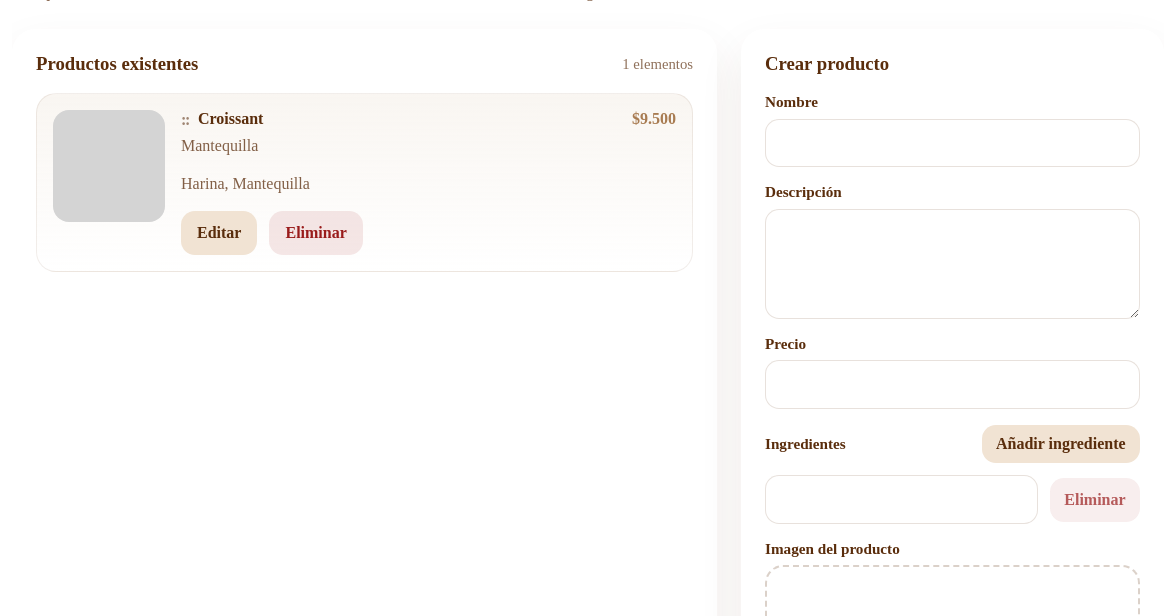
ProductsAdmin › shows the backend validation detail when an update is rejected
Click the button "Editar". click: {"x": 219, "y": 233}
box: x1=181 y1=211 x2=258 y2=255
(page scrolled)
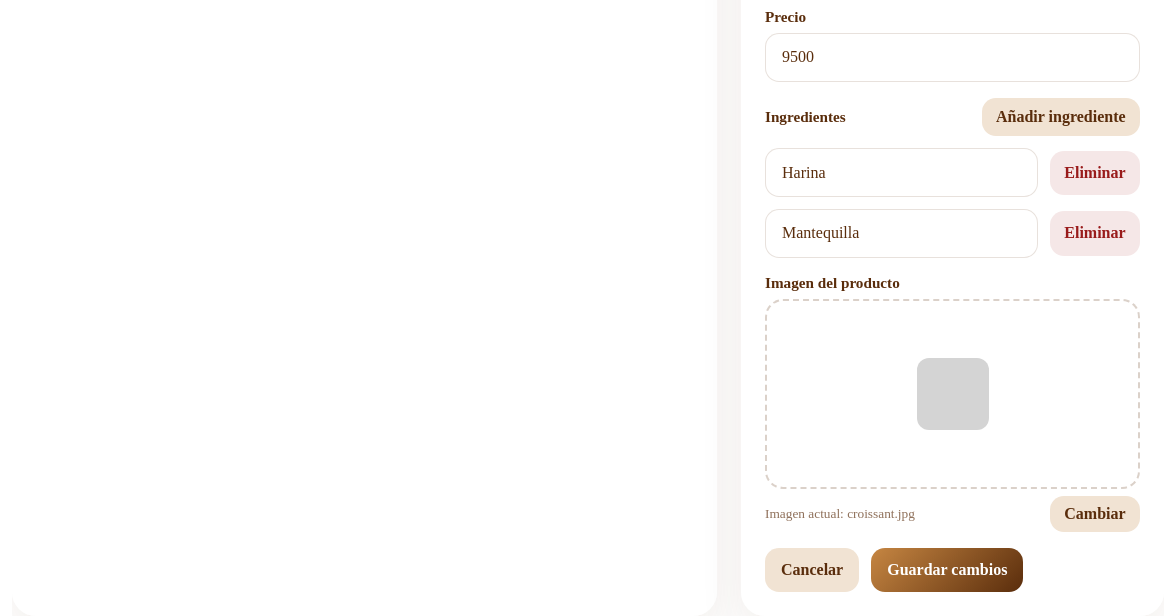
Click the button "Guardar cambios". click: {"x": 947, "y": 570}
box: x1=871 y1=548 x2=1023 y2=592
(page scrolled)
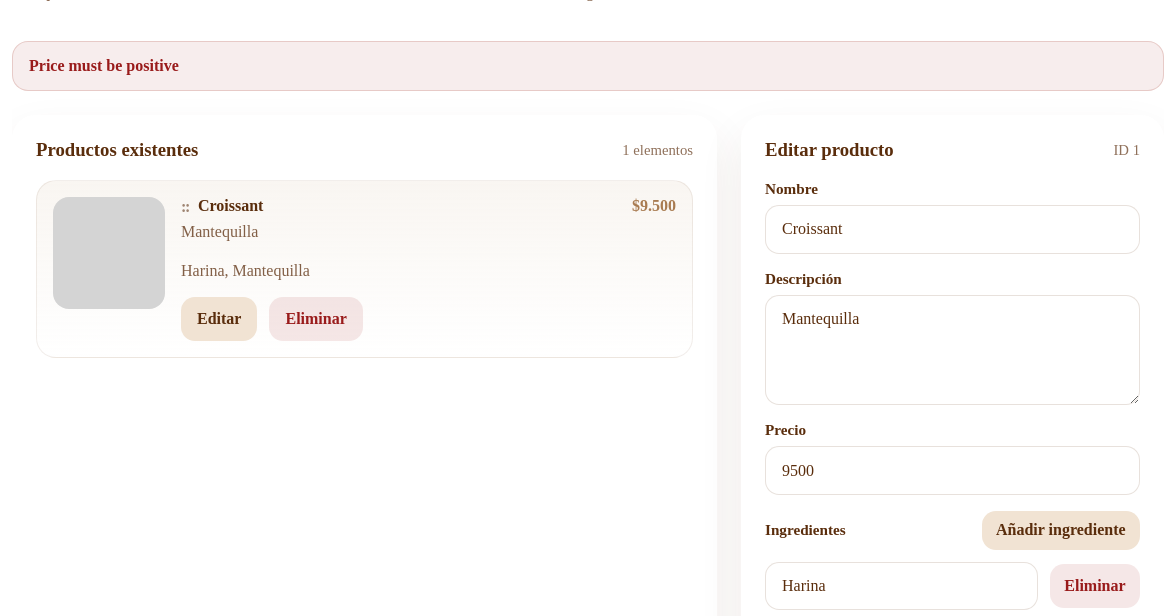
Now the text "Price must be positive" is shown, box x1=12 y1=41 x2=1164 y2=91
